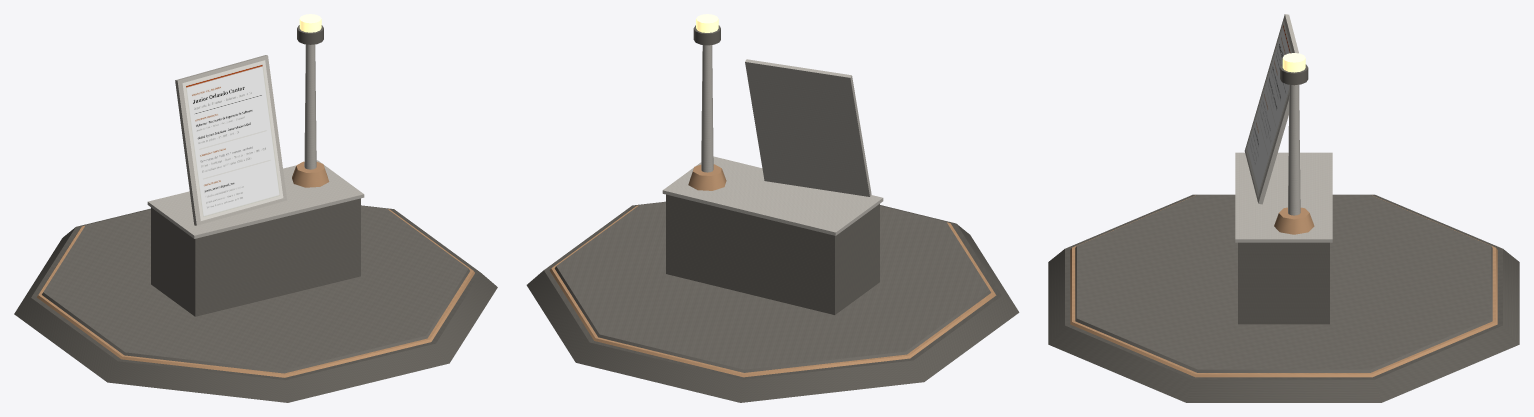
Rendered from contact-beacon.glb.
The picture shows the model from 3 angles, left to right: view 1: azimuth 30°, elevation 25°; view 2: azimuth 150°, elevation 25°; view 3: azimuth 270°, elevation 25°; orthographic projection. The views are drawn at different scales.
Parts seen in each view (by area): view 1: ct_deck, ct_lectern_base, ct_base_lower, ct_cv_sheet, ct_lectern_trim, ct_base_inlay, ct_cv_backing, ct_mast_shaft, ct_mast_collar; view 2: ct_deck, ct_lectern_base, ct_base_lower, ct_cv_backing, ct_lectern_trim, ct_base_inlay, ct_mast_shaft, ct_mast_collar; view 3: ct_deck, ct_base_lower, ct_lectern_base, ct_lectern_trim, ct_base_inlay, ct_cv_sheet, ct_mast_shaft, ct_cv_backing, ct_mast_collar, ct_beacon_lens.
Part boxes in pixels (left/top/right/bottom): ct_deck: left=42, top=205, right=469, bottom=373; ct_lectern_base: left=151, top=198, right=360, bottom=316; ct_base_lower: left=14, top=205, right=497, bottom=402; ct_cv_sheet: left=182, top=60, right=283, bottom=220; ct_lectern_trim: left=147, top=160, right=364, bottom=238; ct_base_inlay: left=37, top=209, right=474, bottom=377; ct_cv_backing: left=175, top=55, right=287, bottom=225; ct_mast_shaft: left=304, top=44, right=316, bottom=169; ct_mast_collar: left=292, top=161, right=329, bottom=187; ct_deck: left=554, top=202, right=990, bottom=372; ct_lectern_base: left=666, top=194, right=879, bottom=314; ct_base_lower: left=526, top=201, right=1019, bottom=402; ct_cv_backing: left=745, top=59, right=871, bottom=196; ct_lectern_trim: left=662, top=156, right=883, bottom=235; ct_base_inlay: left=549, top=205, right=996, bottom=377; ct_mast_shaft: left=701, top=45, right=713, bottom=172; ct_mast_collar: left=688, top=164, right=726, bottom=190; ct_deck: left=1075, top=194, right=1492, bottom=372; ct_base_lower: left=1048, top=194, right=1519, bottom=402; ct_lectern_base: left=1238, top=242, right=1329, bottom=324; ct_lectern_trim: left=1235, top=152, right=1332, bottom=242; ct_base_inlay: left=1070, top=195, right=1497, bottom=377; ct_cv_sheet: left=1246, top=20, right=1292, bottom=197; ct_mast_shaft: left=1288, top=84, right=1300, bottom=215; ct_cv_backing: left=1244, top=14, right=1298, bottom=204; ct_mast_collar: left=1274, top=207, right=1314, bottom=234; ct_beacon_lens: left=1282, top=53, right=1305, bottom=72.
Size of the model in its own units: 3.68 by 2.38 by 3.68.
Materials: 6 (5 with a texture image).
